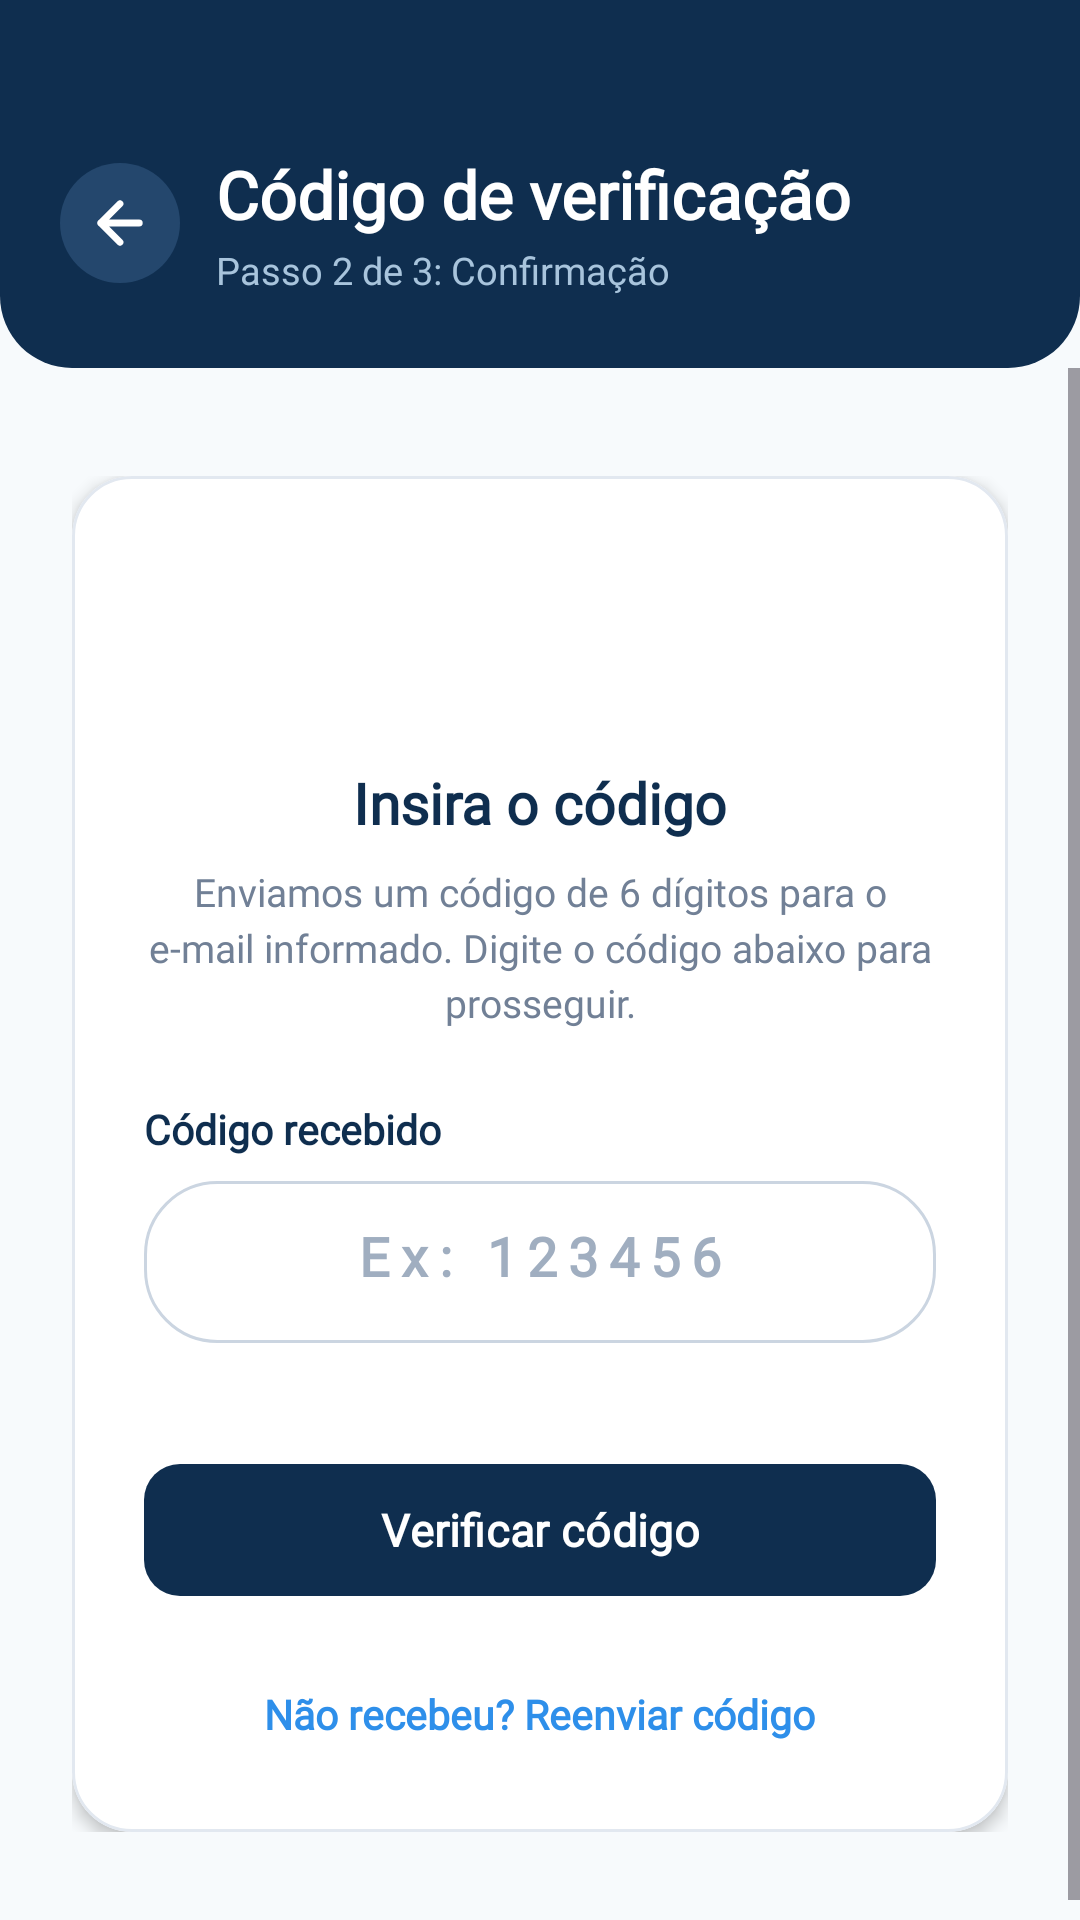

Where icons sit on this 1080 × 1920 app screen, as {"x1": x1, "y1": y1, "x2": x2, "y2": y2}:
Voltar: {"x1": 97, "y1": 200, "x2": 143, "y2": 246}
